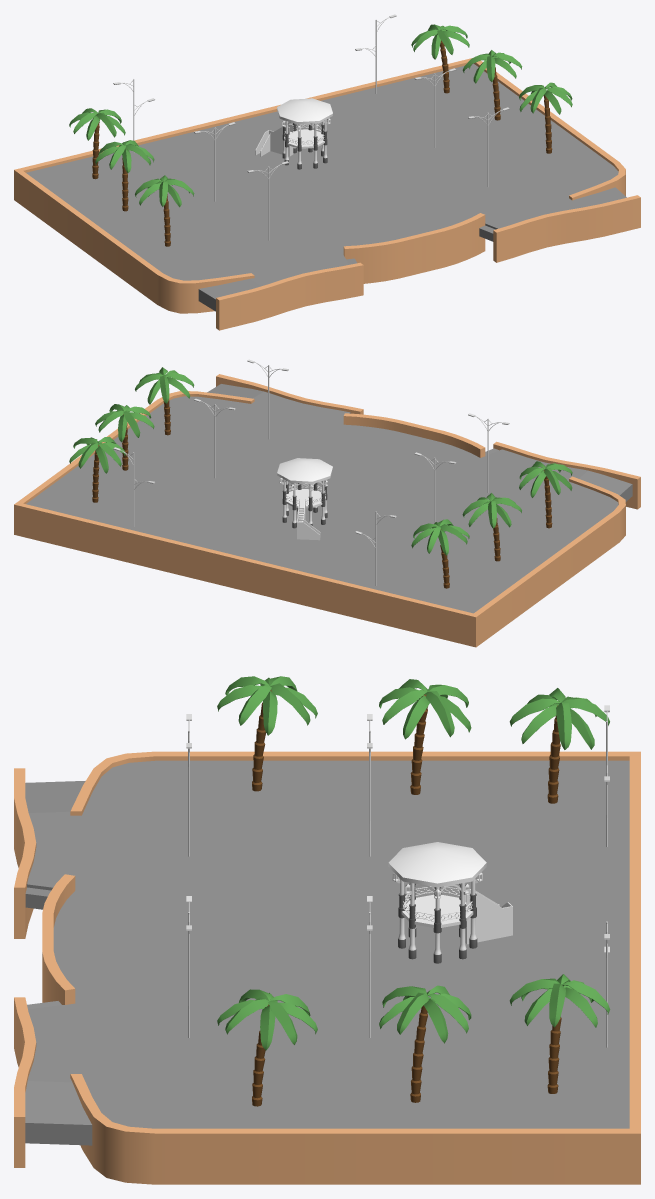
File: Kiosco.glb
The picture shows the model from 3 angles, top to bottom: view 1: azimuth 30°, elevation 25°; view 2: azimuth 150°, elevation 25°; view 3: azimuth 270°, elevation 25°; orthographic projection. The views are drawn at different scales.
Parts seen in each view (by area): view 1: Floor.001, Foundation.001, PalmTrees, LightPoles, Roof, Pillars, Stairs, KioscoFloor; view 2: Floor.001, Foundation.001, PalmTrees, LightPoles, Roof, Pillars, Stairs, KioscoFloor; view 3: Floor.001, Foundation.001, PalmTrees, Roof, Pillars, LightPoles, Stairs, KioscoFloor.
Boxes of the visible parts, x1,y1,x2,y2 form: Floor.001: [26, 63, 626, 311]; Foundation.001: [14, 58, 640, 330]; PalmTrees: [69, 24, 572, 246]; LightPoles: [113, 14, 509, 240]; Roof: [277, 98, 332, 124]; Pillars: [279, 117, 330, 169]; Stairs: [255, 124, 293, 156]; KioscoFloor: [284, 129, 324, 148]; Floor.001: [26, 384, 632, 613]; Foundation.001: [14, 374, 640, 647]; PalmTrees: [69, 367, 572, 588]; LightPoles: [113, 359, 509, 585]; Roof: [277, 458, 332, 483]; Pillars: [279, 478, 327, 528]; Stairs: [297, 497, 320, 540]; KioscoFloor: [285, 489, 325, 508]; Floor.001: [25, 760, 629, 1145]; Foundation.001: [14, 751, 640, 1184]; PalmTrees: [217, 676, 610, 1106]; Roof: [388, 842, 486, 887]; Pillars: [392, 872, 482, 963]; LightPoles: [186, 705, 609, 1047]; Stairs: [465, 889, 512, 944]; KioscoFloor: [401, 894, 473, 927].
Bounding box in the file's own units: 80 × 16.82 × 55.5.
Materials: 2 (1 with a texture image).
